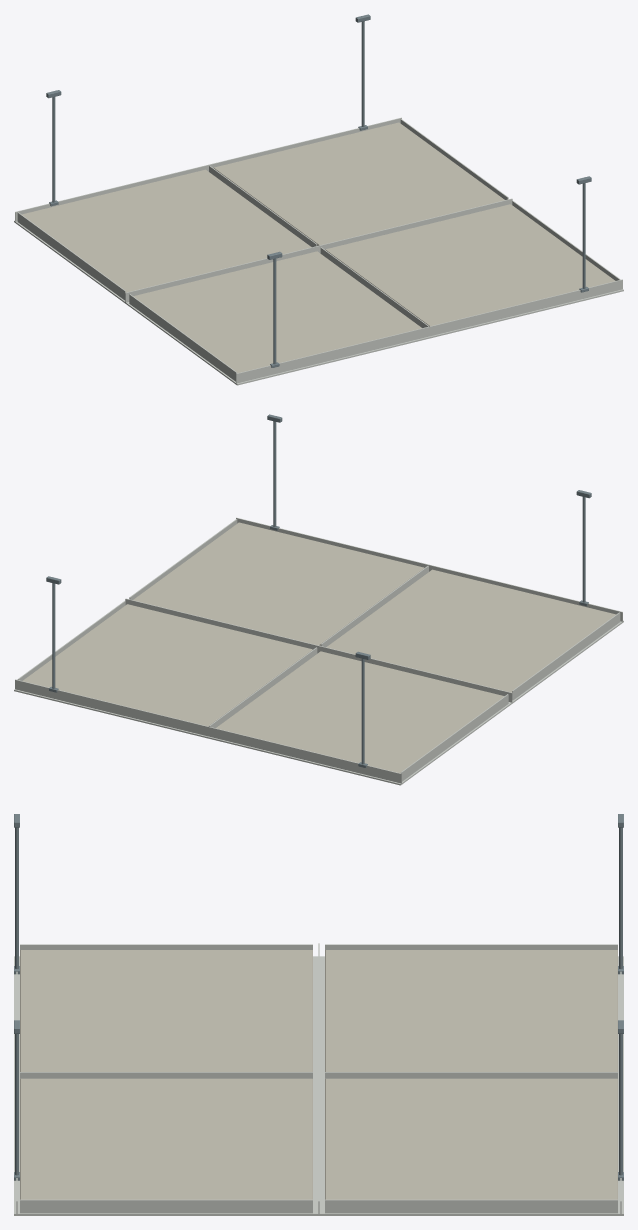
File: mall-ceiling-panel-module.glb
The picture shows the model from 3 angles, top to bottom: view 1: azimuth 30°, elevation 25°; view 2: azimuth 150°, elevation 25°; view 3: azimuth 270°, elevation 25°; orthographic projection. The views are drawn at different scales.
Visible parts, largest first — view 1: PANEL_4, PANEL_3, PANEL_2, PANEL_1, GRID_Main_1, GRID_Main_2, GRID_Main_3, GRID_Cross_1_2, GRID_Cross_1_1, GRID_Cross_2_2, GRID_Cross_2_1, GRID_Cross_3_2 (+1 smaller); view 2: PANEL_2, PANEL_1, PANEL_4, PANEL_3, GRID_Main_3, GRID_Main_2, GRID_Main_1, GRID_Cross_1_1, GRID_Cross_1_2, GRID_Cross_2_1, GRID_Cross_2_2, GRID_Cross_3_1 (+1 smaller); view 3: PANEL_1, PANEL_2, PANEL_3, PANEL_4, GRID_Cross_3_1, GRID_Cross_3_2, GRID_Main_2, GRID_Cross_2_1, GRID_Cross_2_2, GRID_Cross_1_1, GRID_Cross_1_2, GRID_Main_1 (+5 smaller).
Boxes of the visible parts, x1=… form: PANEL_4: x1=214, y1=122, x2=504, y2=245; PANEL_3: x1=22, y1=169, x2=311, y2=292; PANEL_2: x1=325, y1=204, x2=615, y2=326; PANEL_1: x1=133, y1=251, x2=421, y2=373; GRID_Main_1: x1=235, y1=279, x2=623, y2=385; GRID_Main_2: x1=123, y1=198, x2=512, y2=305; GRID_Main_3: x1=14, y1=117, x2=401, y2=223; GRID_Cross_1_2: x1=16, y1=212, x2=125, y2=301; GRID_Cross_1_1: x1=128, y1=294, x2=237, y2=383; GRID_Cross_2_2: x1=209, y1=165, x2=317, y2=247; GRID_Cross_2_1: x1=320, y1=247, x2=428, y2=327; GRID_Cross_3_2: x1=400, y1=119, x2=508, y2=199; PANEL_2: x1=133, y1=522, x2=423, y2=645; PANEL_1: x1=326, y1=569, x2=615, y2=692; PANEL_4: x1=22, y1=604, x2=312, y2=726; PANEL_3: x1=216, y1=651, x2=504, y2=773; GRID_Main_3: x1=14, y1=679, x2=402, y2=785; GRID_Main_2: x1=125, y1=598, x2=514, y2=705; GRID_Main_1: x1=236, y1=517, x2=623, y2=623; GRID_Cross_1_1: x1=512, y1=612, x2=621, y2=701; GRID_Cross_1_2: x1=400, y1=694, x2=509, y2=783; GRID_Cross_2_1: x1=320, y1=565, x2=428, y2=647; GRID_Cross_2_2: x1=209, y1=647, x2=317, y2=727; GRID_Cross_3_1: x1=129, y1=519, x2=237, y2=599; PANEL_1: x1=20, y1=950, x2=312, y2=1071; PANEL_2: x1=20, y1=1078, x2=312, y2=1199; PANEL_3: x1=325, y1=950, x2=617, y2=1071; PANEL_4: x1=325, y1=1078, x2=617, y2=1199; GRID_Cross_3_1: x1=20, y1=1199, x2=312, y2=1215; GRID_Cross_3_2: x1=325, y1=1199, x2=617, y2=1215; GRID_Main_2: x1=313, y1=943, x2=324, y2=1215; GRID_Cross_2_1: x1=20, y1=1072, x2=312, y2=1078; GRID_Cross_2_2: x1=325, y1=1072, x2=617, y2=1078; GRID_Cross_1_1: x1=20, y1=944, x2=312, y2=949; GRID_Cross_1_2: x1=325, y1=944, x2=617, y2=949; GRID_Main_1: x1=14, y1=956, x2=19, y2=1215.
Size of the model in its own units: 1.2 by 0.36 by 1.2.
